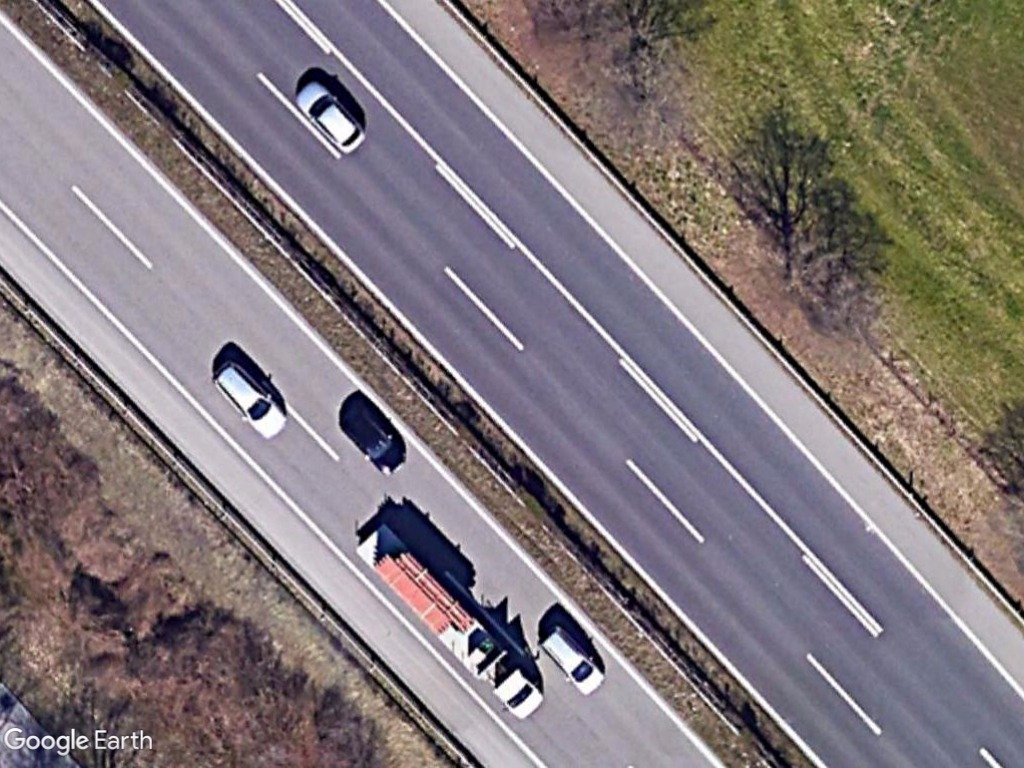car: (211, 356, 294, 444), (292, 79, 371, 157), (337, 398, 411, 475), (535, 623, 607, 701)
